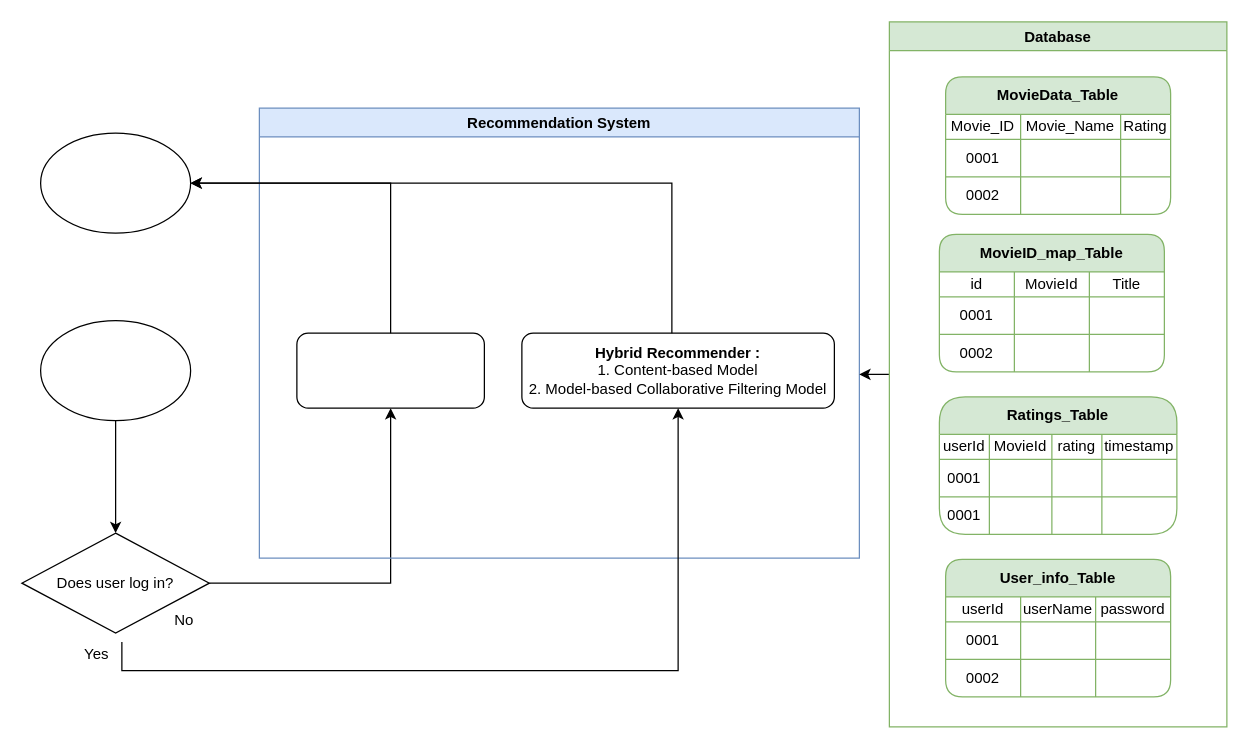
The diagram is 1249 pixels wide and 749 high, and some of its shapes have lost their labels. Here are the shapes that lost their labels. From the top down, the centre of each, then its label:
At (x=115, y=182): "Recommend Movies".
At (x=115, y=370): "Home page".
At (x=390, y=370): "Content-based Model".
